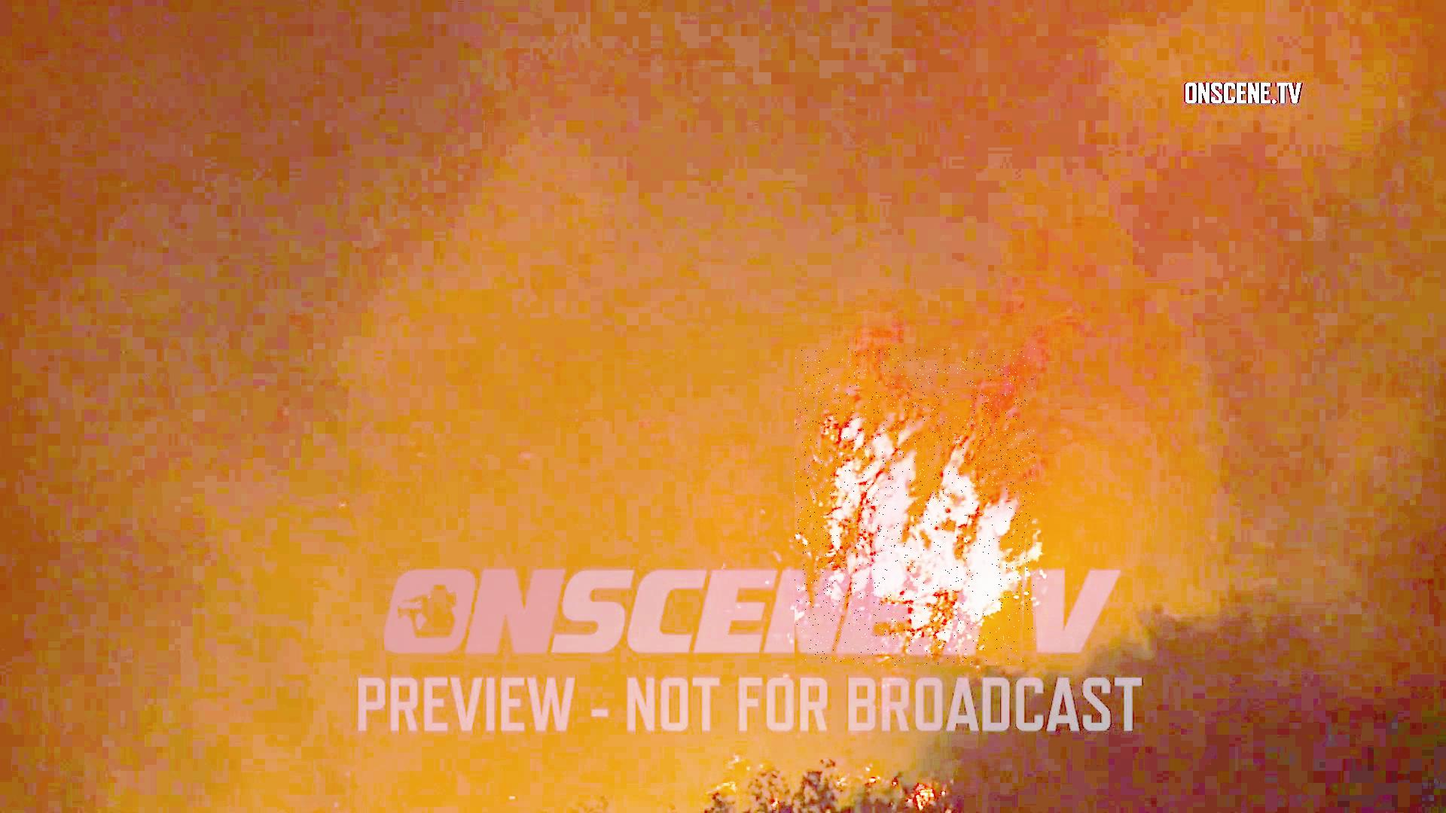fire: (795, 349, 1035, 666)
